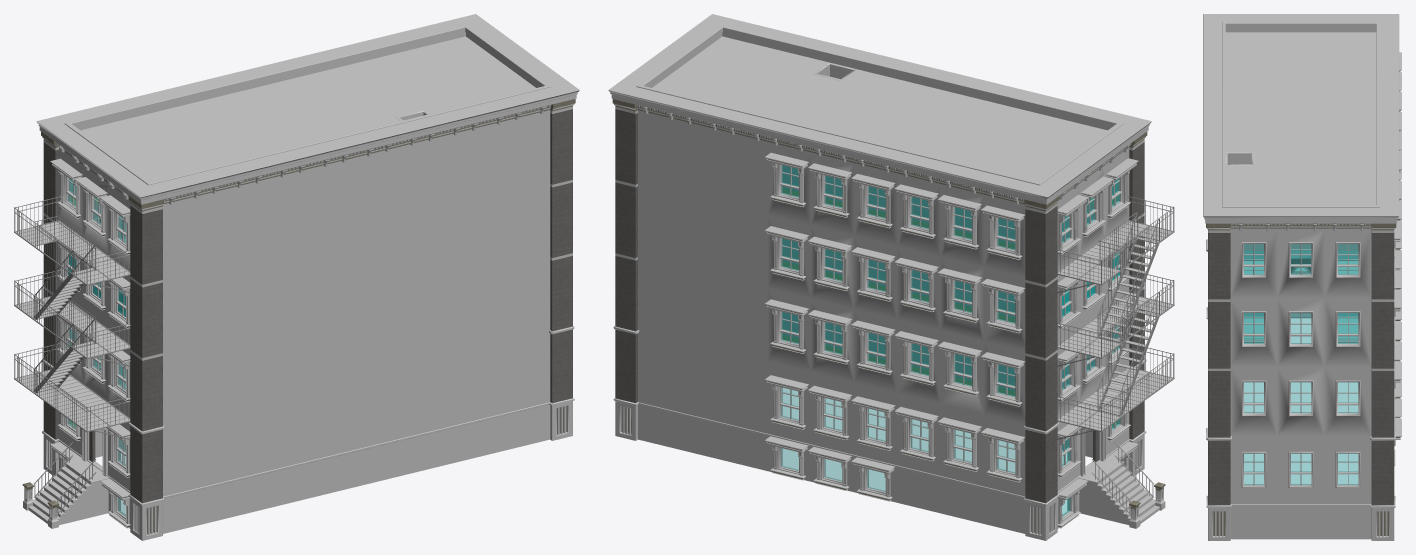
Rendered from SM_Building10_V2.fbx.
3 renders of one model, left to right at view 1: azimuth 30°, elevation 25°; view 2: azimuth 150°, elevation 25°; view 3: azimuth 270°, elevation 25°, orthographic. The views are drawn at different scales.
Visible parts, largest first — view 1: SM_Building10_V2; view 2: SM_Building10_V2; view 3: SM_Building10_V2.
Part boxes in pixels (x1,y1,x2,y2): SM_Building10_V2: (14,14,579,540); SM_Building10_V2: (608,14,1174,540); SM_Building10_V2: (1203,14,1401,540).
Bounding box in the file's own units: 2837 × 1921 × 1057.
